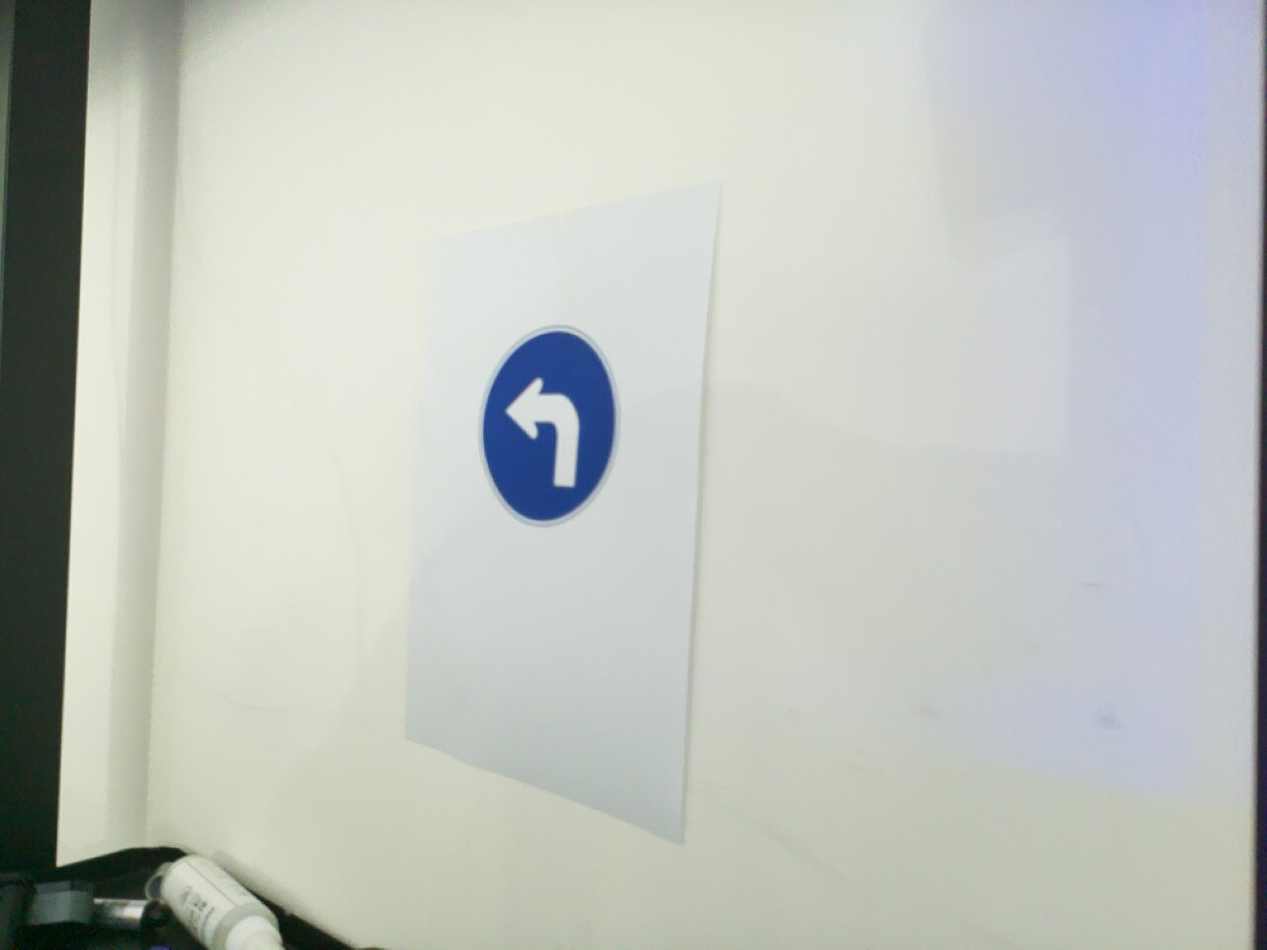left_turn: (477, 324, 622, 529)
